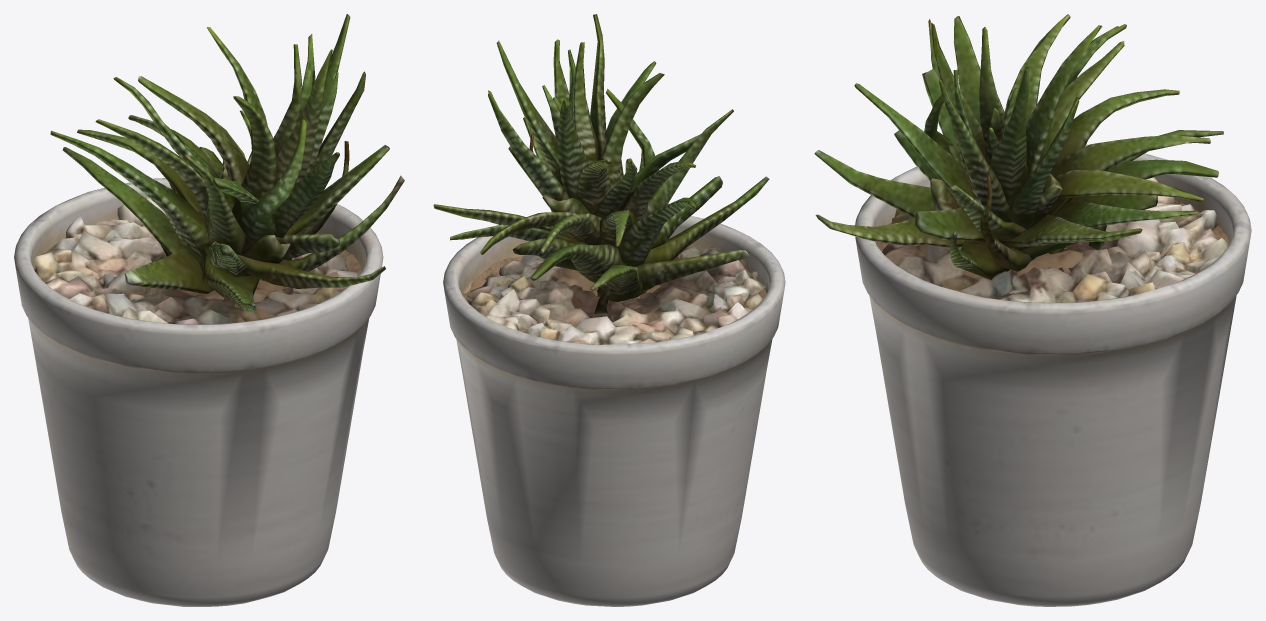
The model's file is planta-pequena.glb.
3 renders of one model, left to right at view 1: azimuth 30°, elevation 25°; view 2: azimuth 150°, elevation 25°; view 3: azimuth 270°, elevation 25°, orthographic. The views are drawn at different scales.
Visible parts, largest first — view 1: potted_plant_04_ground; view 2: potted_plant_04_ground; view 3: potted_plant_04_ground.
Boxes of the visible parts, x1,y1,x2,y2 form: potted_plant_04_ground: [14, 14, 404, 606]; potted_plant_04_ground: [433, 14, 785, 606]; potted_plant_04_ground: [814, 14, 1251, 606].
Bounding box in the file's own units: 0.1679 × 0.2672 × 0.1847.
1 material, 1 textured.
